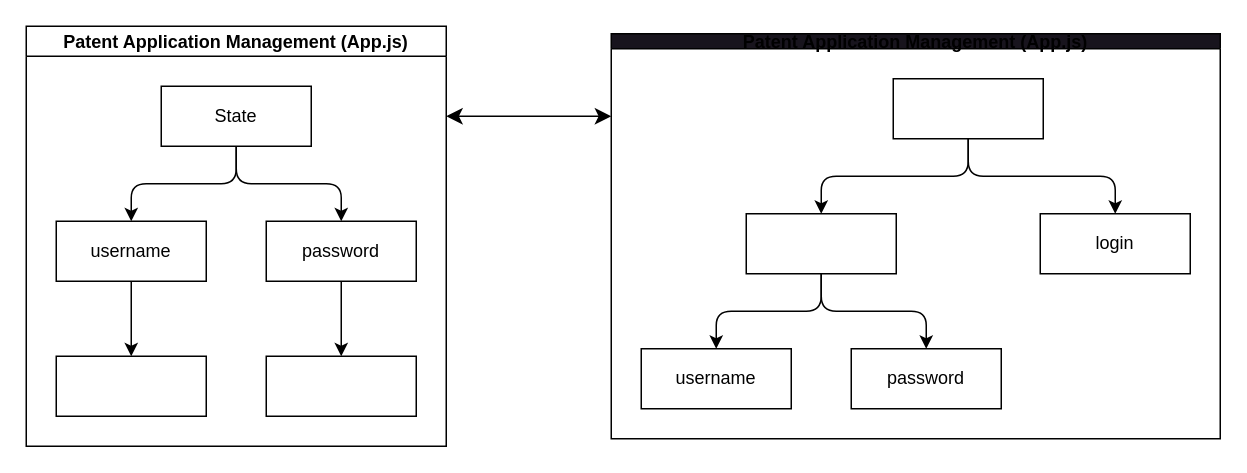
Image size: 1247x473. Some labels were removed from this diagram. The centre of each missing label's shape, as x and y in pixels:
Functions: the point at 967,108
loading: the point at 340,385
register: the point at 820,243
user: the point at 130,385
